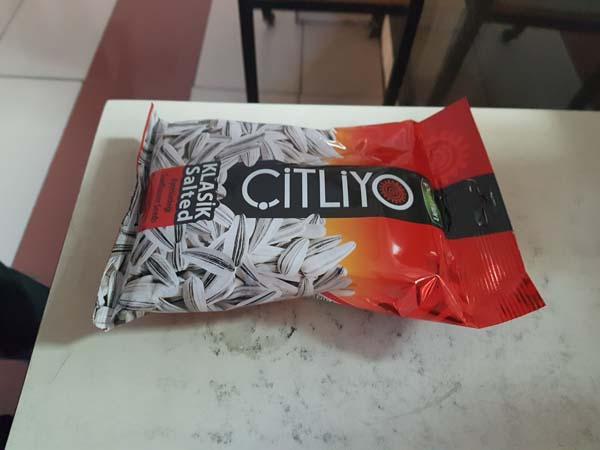citliyorklasik: (88, 99, 552, 336)
